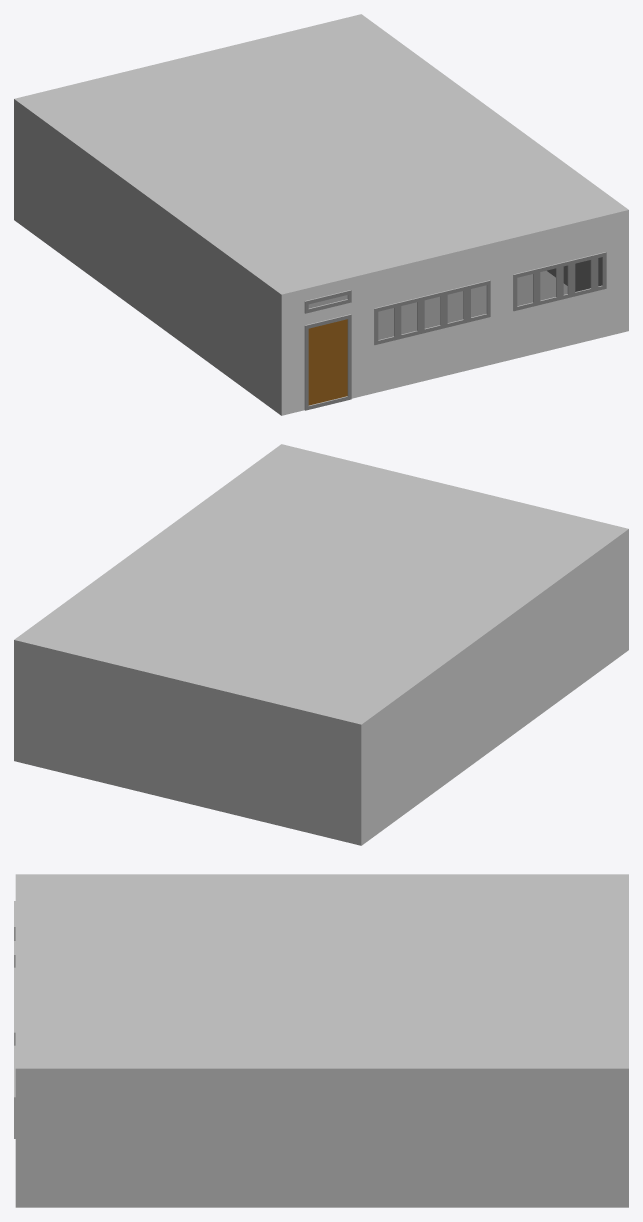
Rendered from casa2.fbx.
The picture shows the model from 3 angles, top to bottom: view 1: azimuth 30°, elevation 25°; view 2: azimuth 150°, elevation 25°; view 3: azimuth 270°, elevation 25°; orthographic projection. The views are drawn at different scales.
Visible parts, largest first — view 1: Cubo; view 2: Cubo; view 3: Cubo.
Part boxes in pixels (bbox=[...]): Cubo: bbox=[14, 14, 628, 415]; Cubo: bbox=[14, 444, 628, 845]; Cubo: bbox=[14, 874, 628, 1207].
Size of the model in its own units: 300 by 100 by 401.
